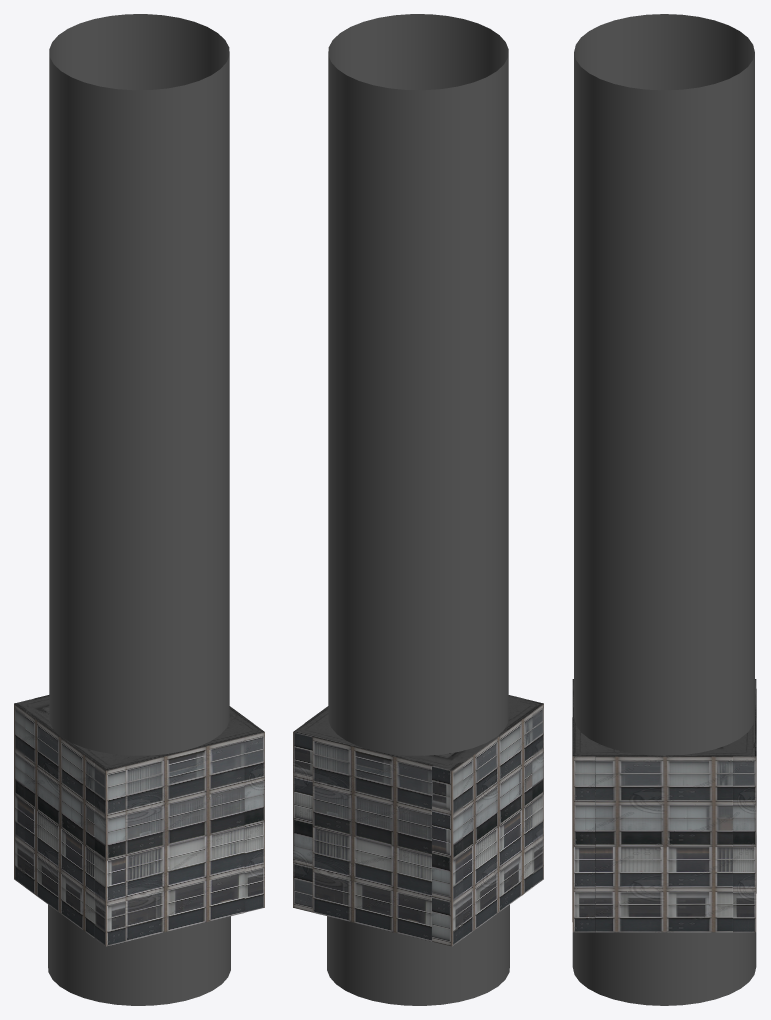
File: Buildings BAK.dae
3 views of the same model, side by side, from view 1: azimuth 30°, elevation 25°; view 2: azimuth 150°, elevation 25°; view 3: azimuth 270°, elevation 25° (orthographic).
Parts seen in each view (by area): view 1: Light_Beam, Taxi_Building_B, Taxi_Building_A, Taxi_Landing_Pad; view 2: Light_Beam, Taxi_Building_B, Taxi_Landing_Pad, Taxi_Building_A; view 3: Light_Beam, Taxi_Building_B, Taxi_Landing_Pad, Taxi_Building_A.
Part boxes in pixels (left/top/right/bottom): Light_Beam: left=49, top=14, right=229, bottom=755; Taxi_Building_B: left=25, top=695, right=252, bottom=941; Taxi_Building_A: left=14, top=698, right=264, bottom=946; Taxi_Landing_Pad: left=48, top=904, right=230, bottom=1005; Light_Beam: left=328, top=14, right=508, bottom=755; Taxi_Building_B: left=304, top=695, right=532, bottom=941; Taxi_Landing_Pad: left=327, top=904, right=509, bottom=1005; Taxi_Building_A: left=293, top=695, right=543, bottom=946; Light_Beam: left=574, top=14, right=754, bottom=755; Taxi_Building_B: left=572, top=689, right=756, bottom=932; Taxi_Landing_Pad: left=572, top=932, right=756, bottom=1005; Taxi_Building_A: left=572, top=679, right=756, bottom=932.
Size of the model in its own units: 1 by 5.5 by 1.
